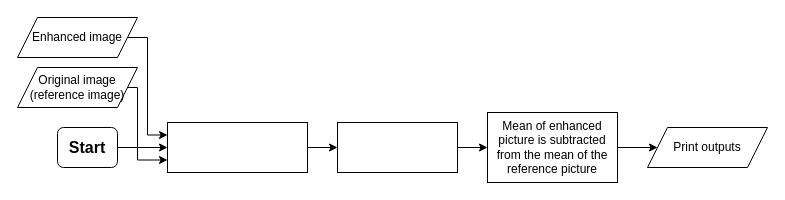
Some shapes in this 785 by 200 pixel diagram are drawn without their labels. Here are the shapes that lost their labels. From the top down, the centre of each, then its label:
At [237,147]: "Images are converted into grayscale".
At [397,147]: "Mean of pixelvalues are found".
